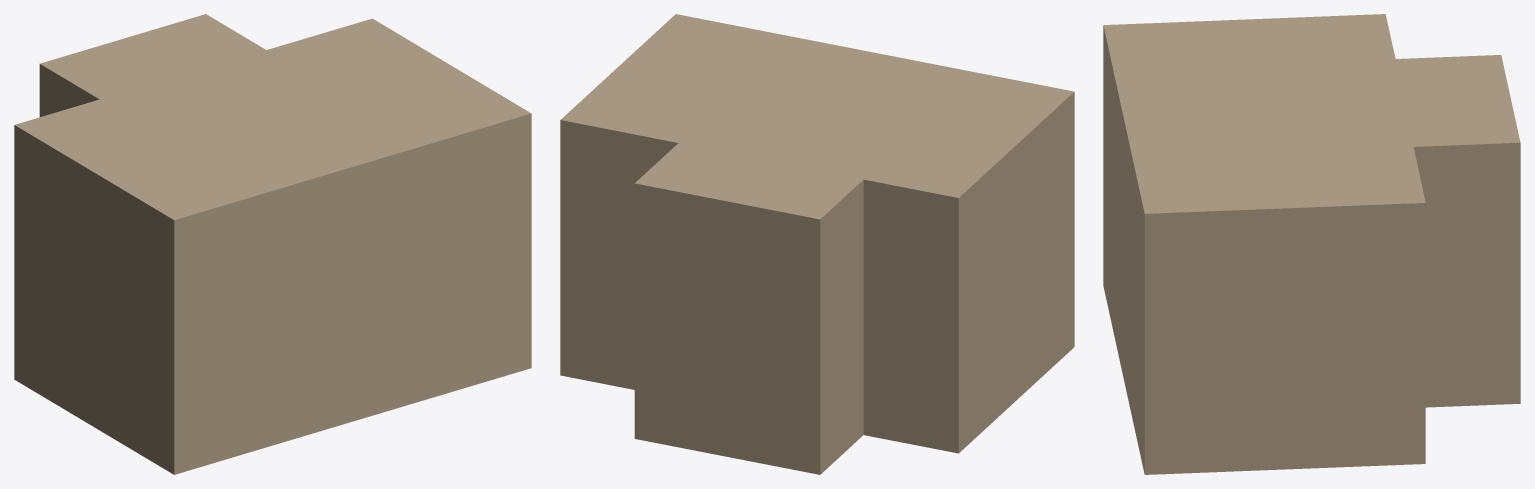
Rendered from bld_108400898.dae.
The picture shows the model from 3 angles, left to right: view 1: azimuth 30°, elevation 25°; view 2: azimuth 150°, elevation 25°; view 3: azimuth 270°, elevation 25°; orthographic projection. The views are drawn at different scales.
Visible parts, largest first — view 1: bld_108400898; view 2: bld_108400898; view 3: bld_108400898.
Boxes of the visible parts, x1,y1,x2,y2 form: bld_108400898: (14,14,531,474); bld_108400898: (560,14,1074,474); bld_108400898: (1103,14,1520,474).
Size of the model in its own units: 13.13 by 11.58 by 8.
